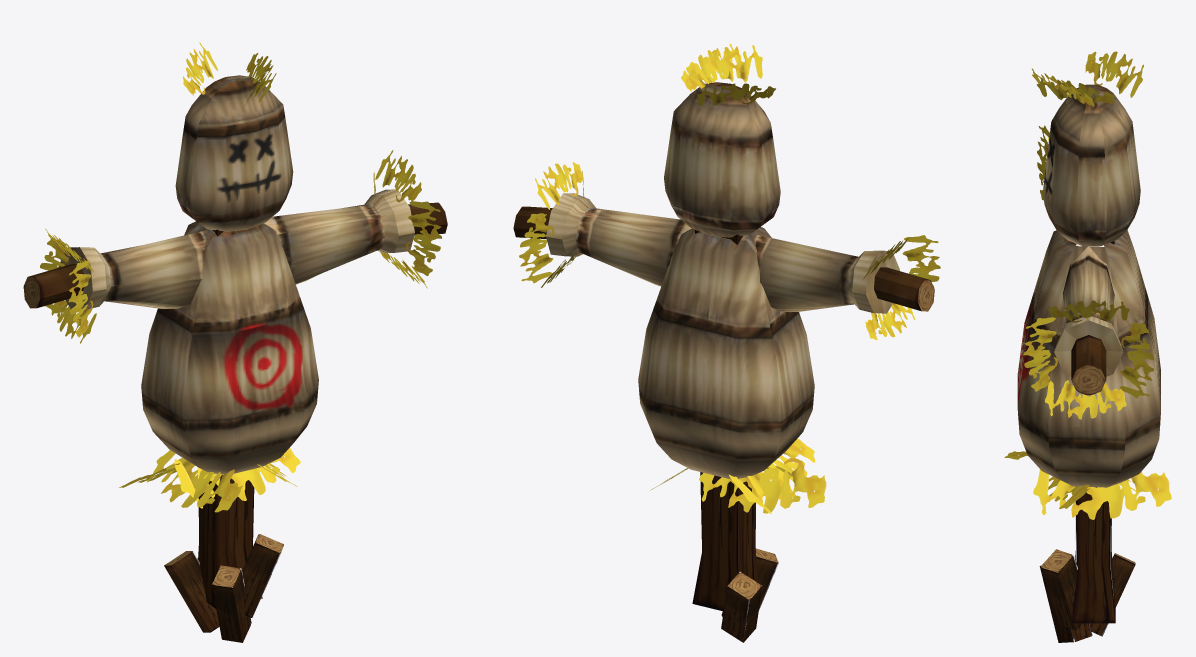
File: Dummy.FBX
The picture shows the model from 3 angles, left to right: view 1: azimuth 30°, elevation 25°; view 2: azimuth 150°, elevation 25°; view 3: azimuth 270°, elevation 25°; orthographic projection. The views are drawn at different scales.
Visible parts, largest first — view 1: Sphere001, Object005, Object002, Object007, Object006, Object011, Object014, Object018; view 2: Sphere001, Object004, Object005, Object009, Object017, Object006, Object018, Object011, Object014, Object012; view 3: Sphere001, Object003, Object008, Object009, Object007, Object014, Object006, Object018, Object017, Object002, Object011.
Boxes of the visible parts, bbox=[...] form: Sphere001: bbox=[23, 75, 447, 642]; Object005: bbox=[147, 450, 242, 512]; Object002: bbox=[174, 448, 300, 508]; Object007: bbox=[406, 201, 441, 275]; Object006: bbox=[375, 150, 421, 202]; Object011: bbox=[68, 260, 93, 337]; Object014: bbox=[183, 42, 218, 95]; Object018: bbox=[246, 53, 276, 102]; Sphere001: bbox=[513, 82, 934, 642]; Object004: bbox=[699, 458, 826, 513]; Object005: bbox=[728, 438, 815, 513]; Object009: bbox=[519, 213, 554, 283]; Object017: bbox=[686, 45, 762, 83]; Object006: bbox=[535, 162, 583, 209]; Object018: bbox=[681, 44, 741, 91]; Object011: bbox=[902, 235, 940, 287]; Object014: bbox=[697, 83, 775, 105]; Object012: bbox=[865, 303, 915, 340]; Sphere001: bbox=[1017, 84, 1160, 642]; Object003: bbox=[1033, 469, 1171, 519]; Object008: bbox=[1045, 380, 1126, 419]; Object009: bbox=[1119, 322, 1154, 398]; Object007: bbox=[1023, 317, 1057, 391]; Object014: bbox=[1085, 51, 1143, 97]; Object006: bbox=[1048, 300, 1129, 322]; Object018: bbox=[1036, 77, 1114, 104]; Object017: bbox=[1032, 68, 1094, 106]; Object002: bbox=[1048, 476, 1089, 508]; Object011: bbox=[1037, 125, 1049, 200].
Size of the model in its own units: 38.15 by 51.76 by 14.46.
